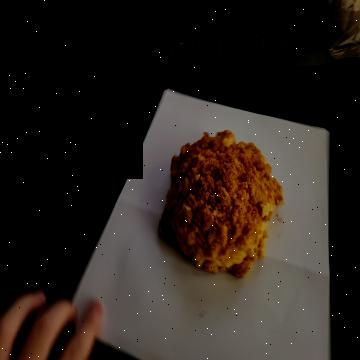soboru_bread: (159, 129, 281, 279)
